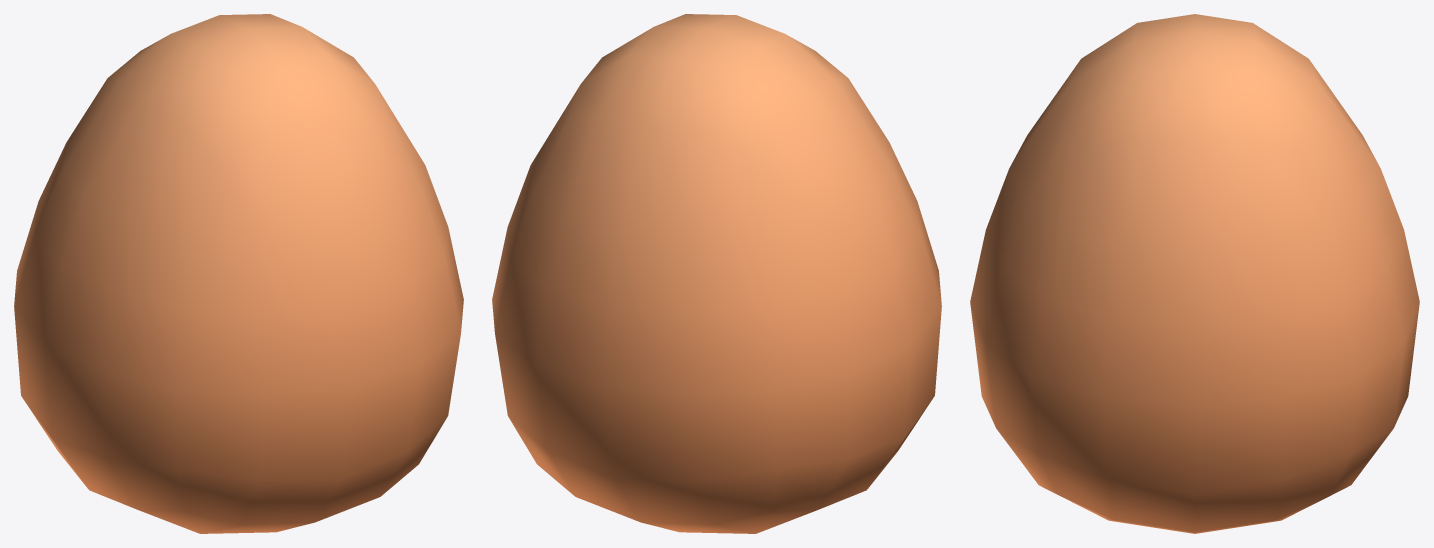
File: Egg_01.fbx
3 views of the same model, side by side, from view 1: azimuth 30°, elevation 25°; view 2: azimuth 150°, elevation 25°; view 3: azimuth 270°, elevation 25° (orthographic).
Parts seen in each view (by area): view 1: Egg_01; view 2: Egg_01; view 3: Egg_01.
Boxes of the visible parts, x1=… form: Egg_01: x1=14, y1=14, x2=463, y2=533; Egg_01: x1=492, y1=14, x2=941, y2=533; Egg_01: x1=970, y1=14, x2=1419, y2=533.
Size of the model in its own units: 32.25 by 38.01 by 32.27.
